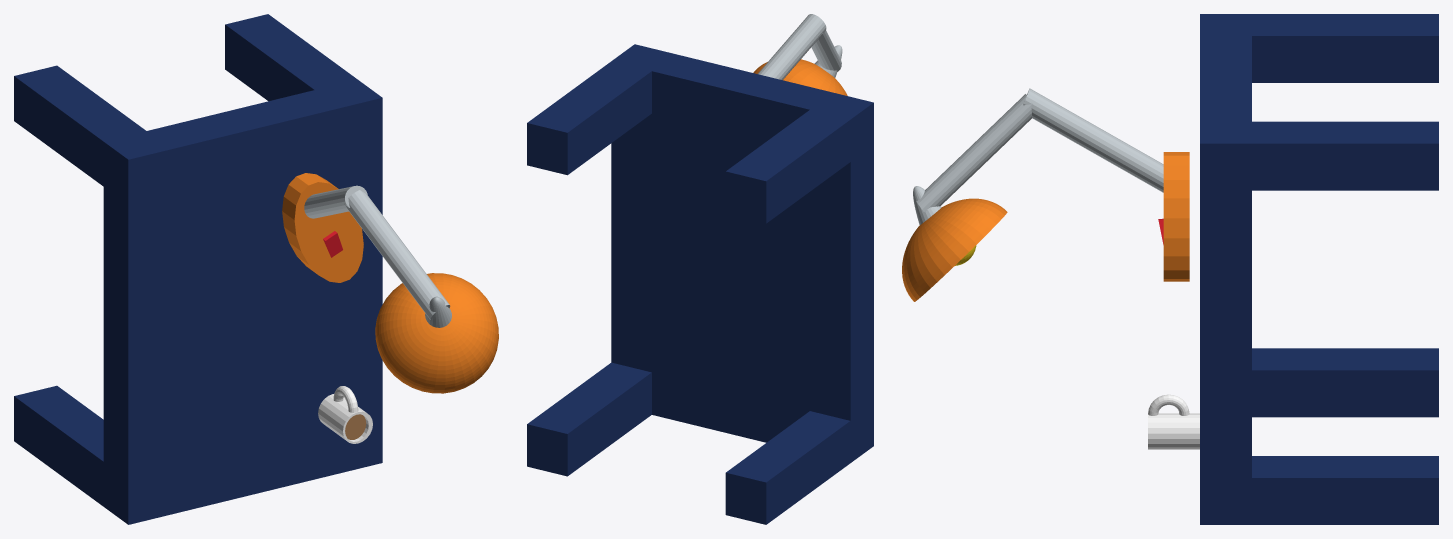
The model's file is tinker.obj.
The picture shows the model from 3 angles, left to right: view 1: azimuth 30°, elevation 25°; view 2: azimuth 150°, elevation 25°; view 3: azimuth 270°, elevation 25°; orthographic projection. The views are drawn at different scales.
Visible parts, largest first — view 1: group_0_1650274, group_0_16089887, group_0_12568524, group_0_16448250; view 2: group_0_1650274, group_0_12568524, group_0_16089887; view 3: group_0_1650274, group_0_16089887, group_0_12568524, group_0_16448250.
Boxes of the visible parts, x1,y1,x2,y2 form: group_0_1650274: [14, 14, 382, 524]; group_0_16089887: [282, 173, 498, 393]; group_0_12568524: [304, 185, 451, 327]; group_0_16448250: [318, 386, 372, 443]; group_0_1650274: [527, 44, 873, 524]; group_0_12568524: [758, 14, 842, 80]; group_0_16089887: [753, 59, 847, 95]; group_0_1650274: [1200, 14, 1438, 524]; group_0_16089887: [902, 152, 1189, 301]; group_0_12568524: [913, 88, 1163, 224]; group_0_16448250: [1148, 394, 1199, 449].
Size of the model in its own units: 59 by 81 by 103.
